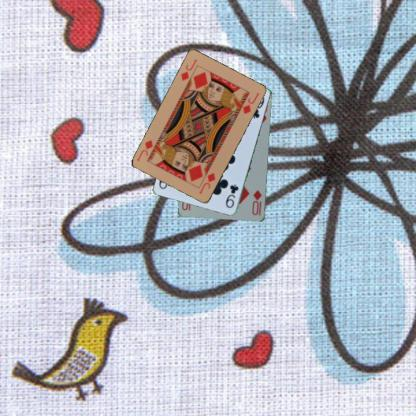10d: (249, 188, 263, 216)
9c: (223, 182, 240, 209)
Jd: (196, 170, 216, 196), (179, 57, 198, 82)
